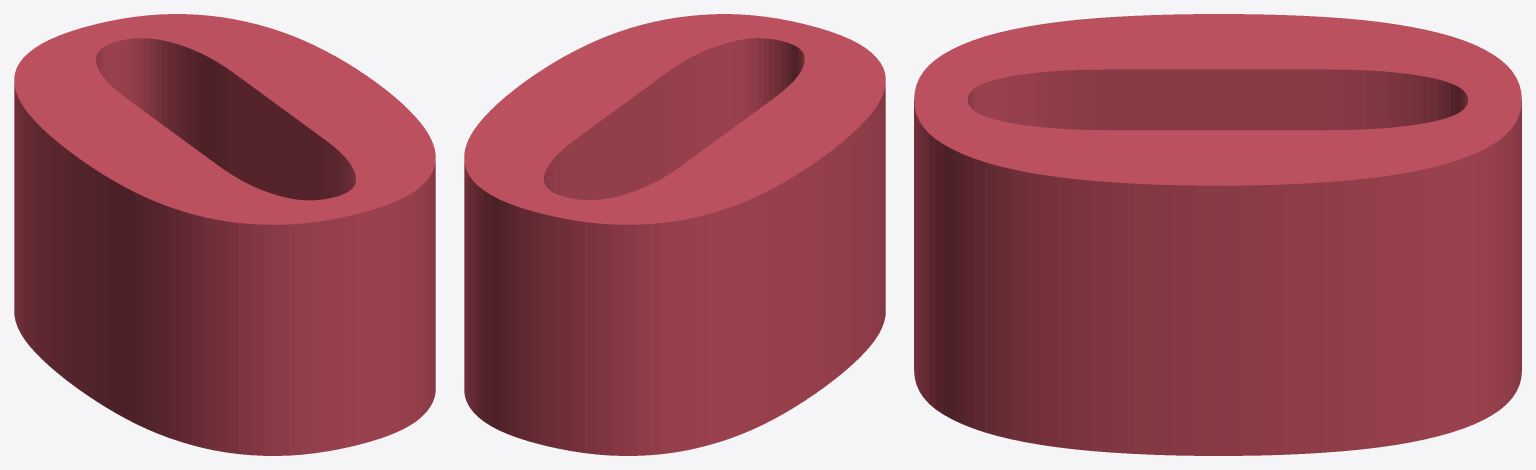
3 views of the same model, side by side, from view 1: azimuth 30°, elevation 25°; view 2: azimuth 150°, elevation 25°; view 3: azimuth 270°, elevation 25° (orthographic). The views are drawn at different scales.
Visible parts, largest first — view 1: Mesh_Mesh_head_geo.001_lambert2SG.001; view 2: Mesh_Mesh_head_geo.001_lambert2SG.001; view 3: Mesh_Mesh_head_geo.001_lambert2SG.001.
Boxes of the visible parts, x1=… form: Mesh_Mesh_head_geo.001_lambert2SG.001: x1=14, y1=14, x2=435, y2=455; Mesh_Mesh_head_geo.001_lambert2SG.001: x1=464, y1=14, x2=885, y2=455; Mesh_Mesh_head_geo.001_lambert2SG.001: x1=914, y1=14, x2=1521, y2=455.
Bounding box in the file's own units: 13.62 × 10 × 20.38.
